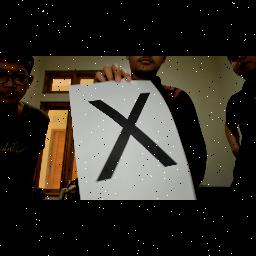x: (82, 88, 184, 184)
